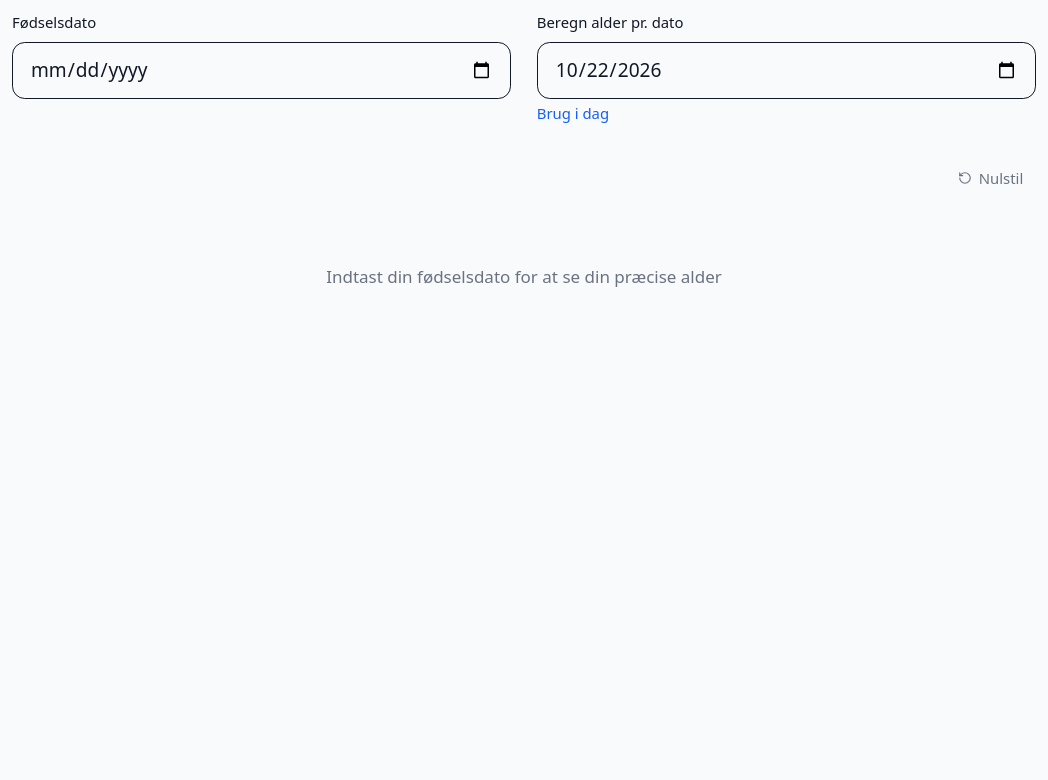
it: AlderBeregner › Dage levet er kalenderdage, også når uret stilles om
In the date field labelled "Fødselsdato": coordinates (262, 70) [12, 42, 511, 99], type "1990-03-15"
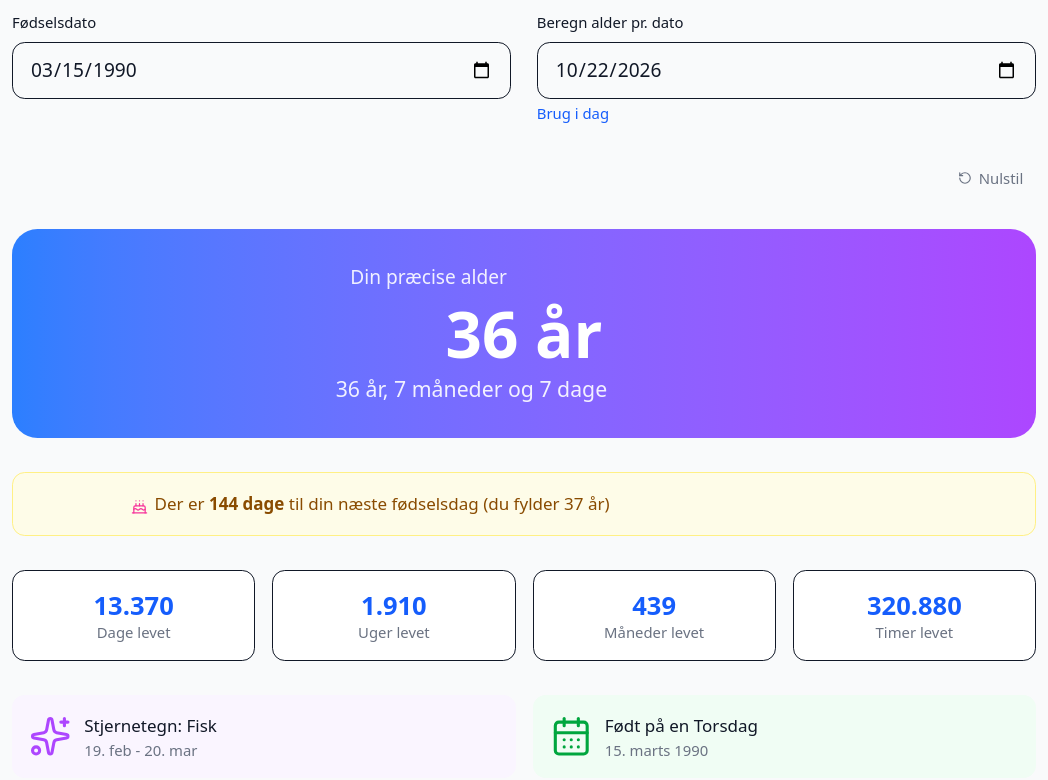
In the date field labelled "Beregn alder pr. dato": coordinates (786, 70) [537, 42, 1036, 99], type "2026-09-25"
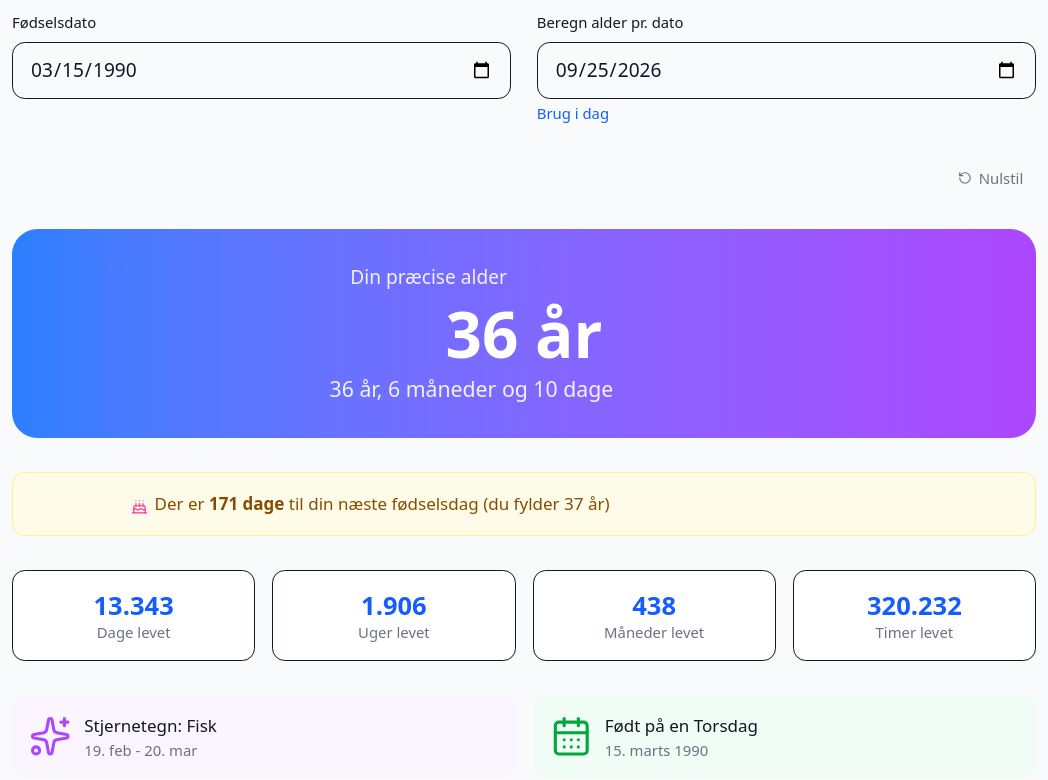
Expected: the text "13.343" is shown, [94, 588, 174, 622]
